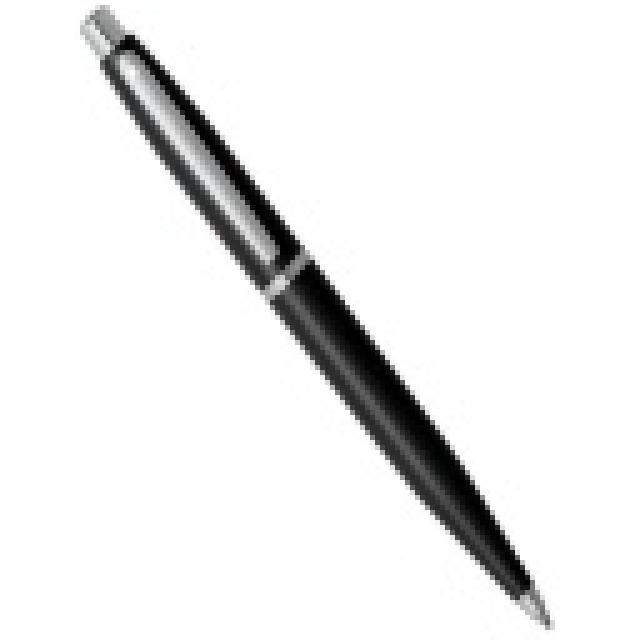pen: (79, 9, 564, 631)
